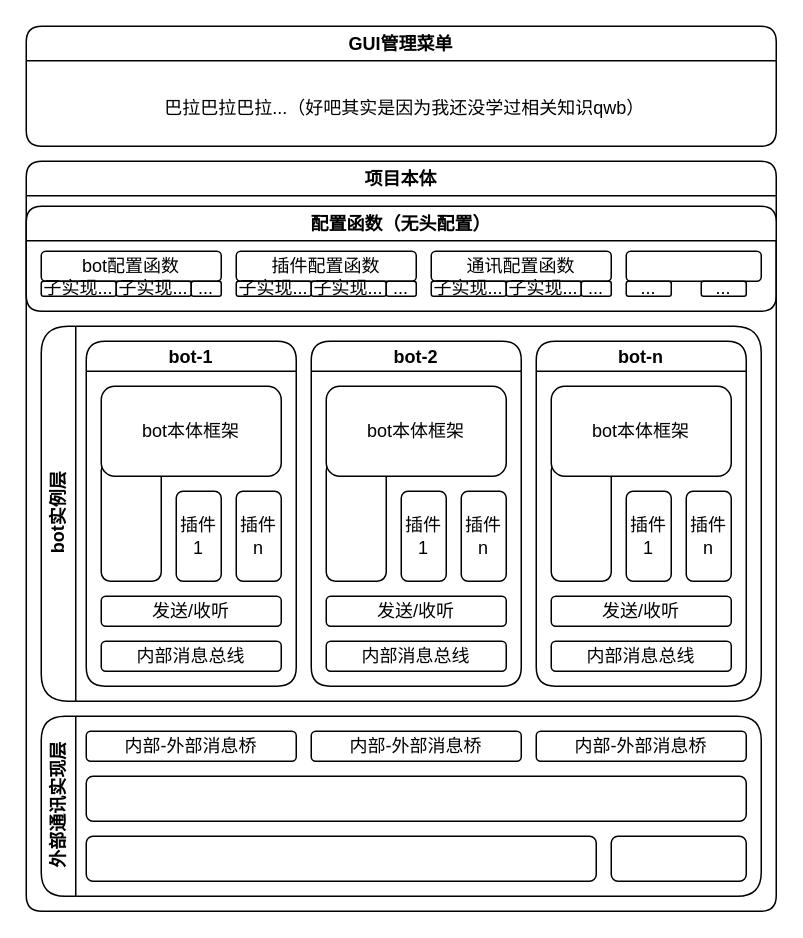
The diagram is 803 pixels wide and 938 high, and some of its shapes have lost their labels. The shapes that lost their labels are listed below. From the top down, each one's centre as x and y in pixels, then its label:
At point (693, 265): "其他...".
At point (415, 798): "消息总线".
At point (340, 858): "NapcatQQ".
At point (678, 858): "other...".
